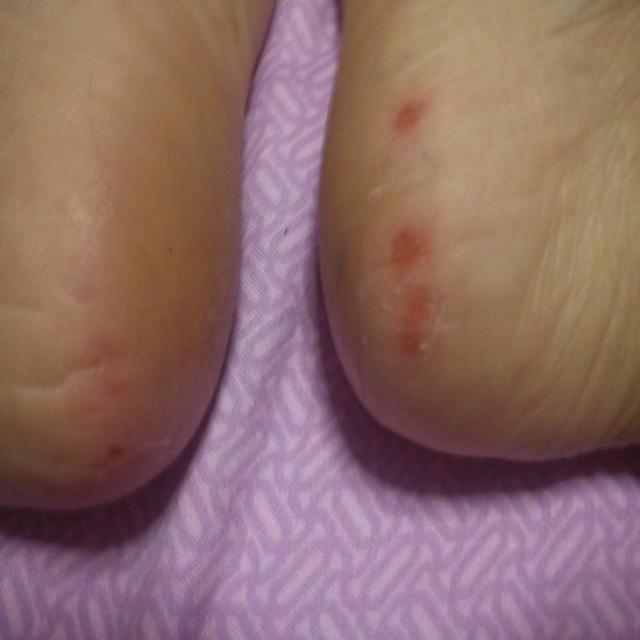stage-1: (400, 291, 434, 355), (390, 88, 426, 139), (392, 227, 427, 278)
